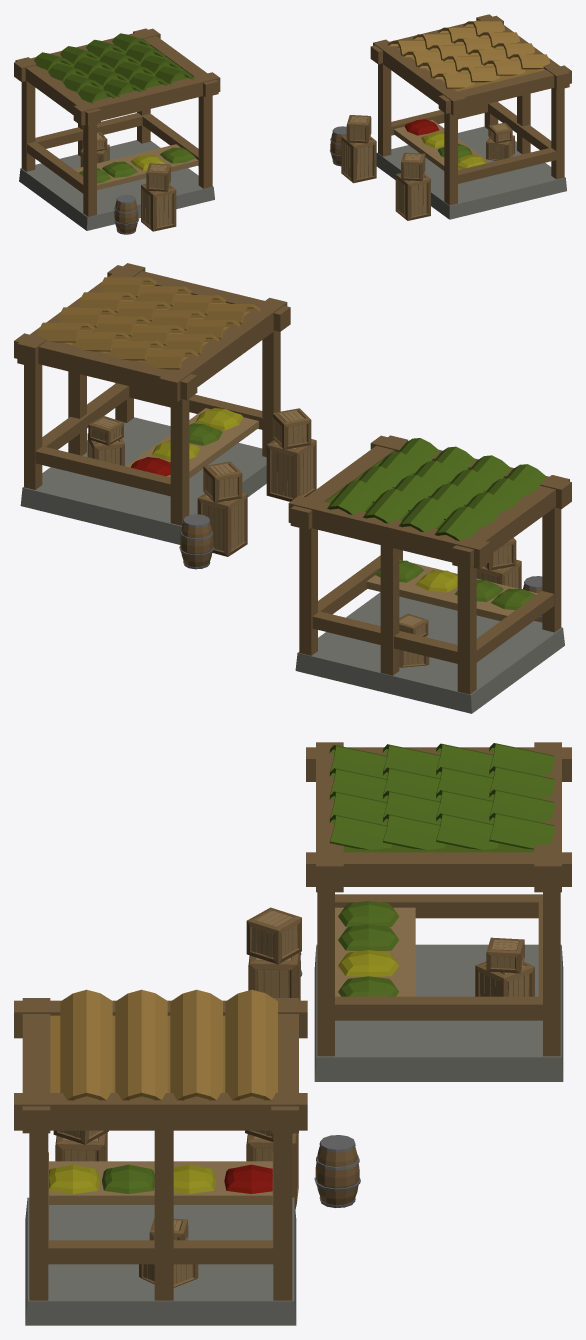
Rendered from market_stalls_b.fbx.
3 views of the same model, one above another, from view 1: azimuth 30°, elevation 25°; view 2: azimuth 150°, elevation 25°; view 3: azimuth 270°, elevation 25° (orthographic). The views are drawn at different scales.
Parts seen in each view (by area): view 1: Market_SecondAge_Level1; view 2: Market_SecondAge_Level1; view 3: Market_SecondAge_Level1.
Boxes of the visible parts, x1,y1,x2,y2 form: Market_SecondAge_Level1: [14, 14, 571, 234]; Market_SecondAge_Level1: [14, 263, 571, 713]; Market_SecondAge_Level1: [14, 742, 571, 1325].
Bounding box in the file's own units: 1 × 0.309 × 0.643.
